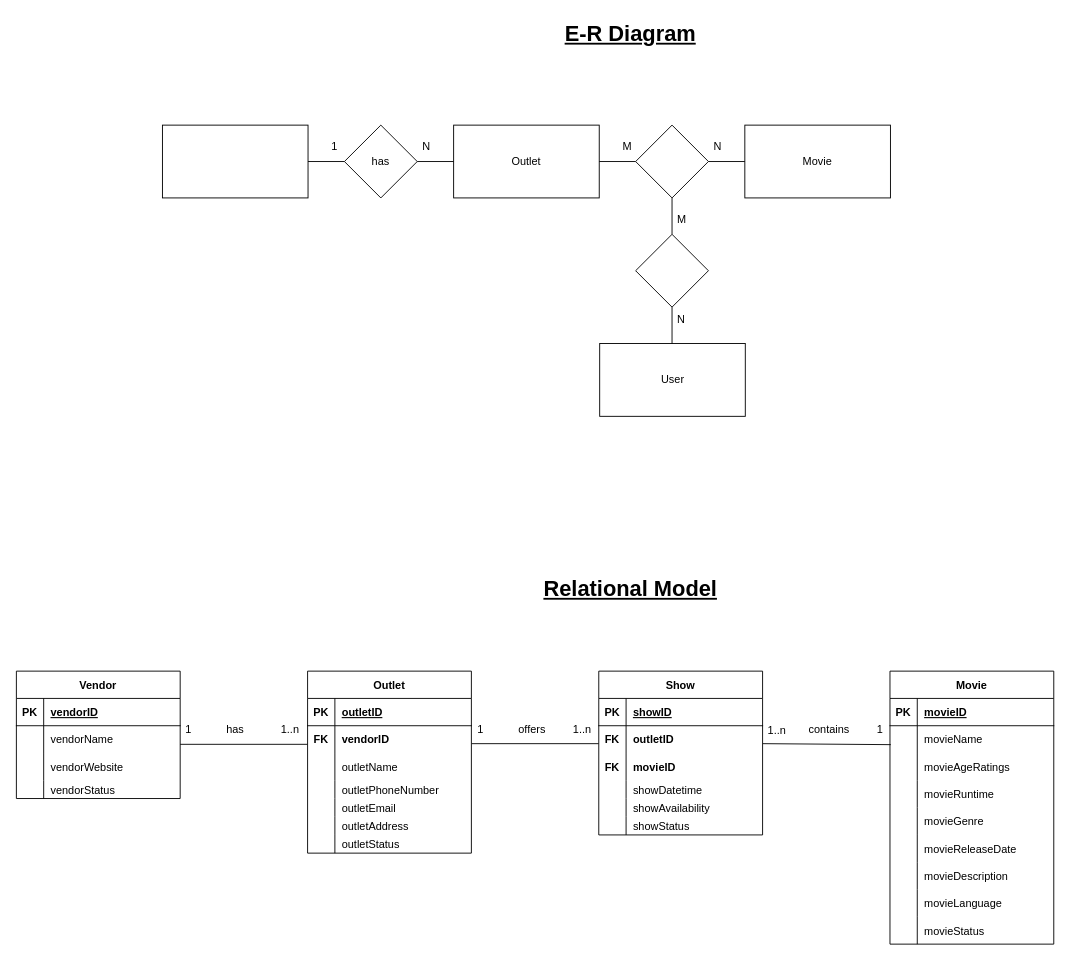
Image size: 1069x960. Some labels were removed from this diagram. Each missing label, with the centre of its shape:
"offer" belongs at (x=671, y=161).
"Theatre" belongs at (x=235, y=161).
"view" belongs at (x=671, y=270).
